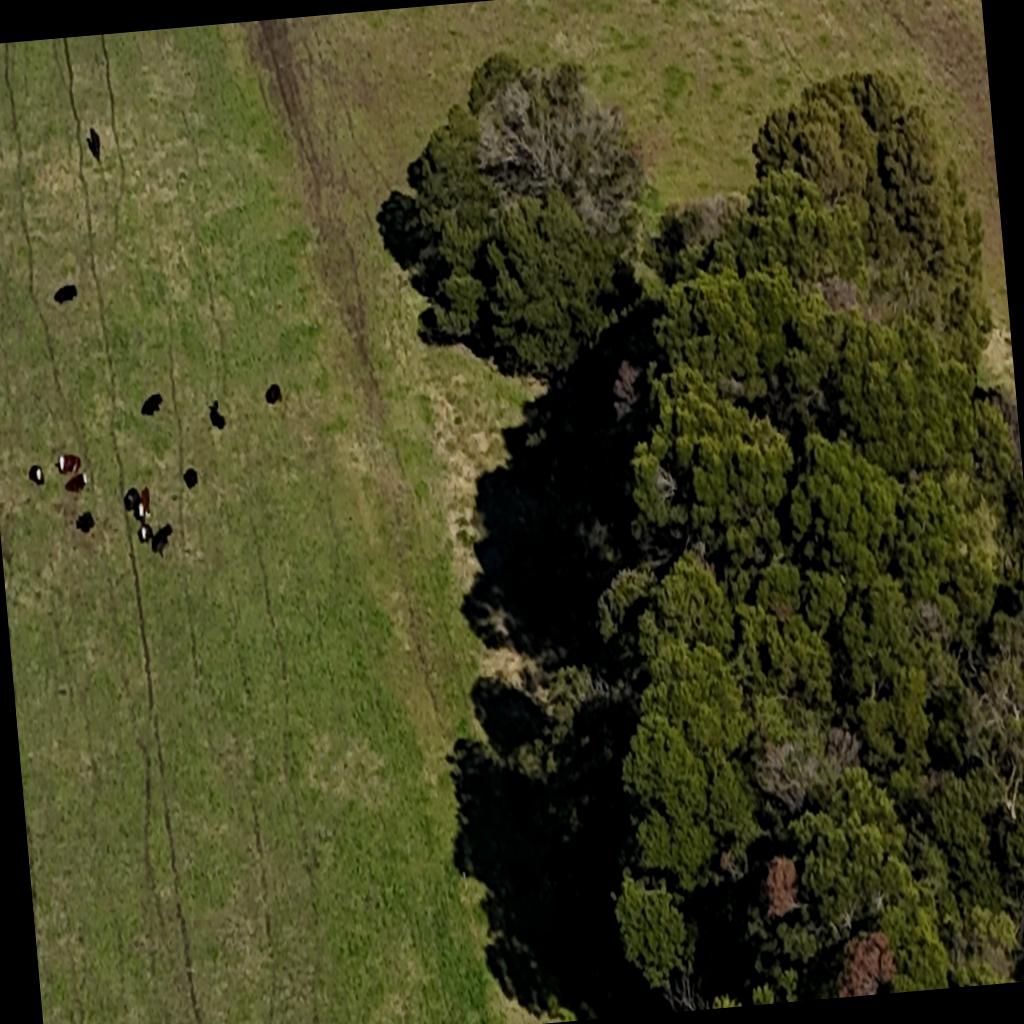cow: (148, 523, 174, 556), (84, 126, 102, 162), (56, 450, 82, 474), (138, 392, 164, 416), (122, 485, 142, 516), (207, 398, 226, 430), (52, 282, 78, 304), (64, 472, 88, 494), (74, 509, 95, 534), (138, 486, 152, 520), (27, 463, 45, 487), (264, 382, 282, 405), (137, 520, 152, 546), (182, 466, 198, 490)
